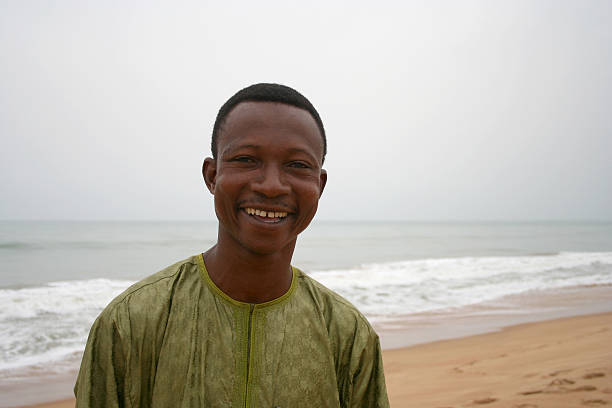person: (200, 82, 330, 261)
